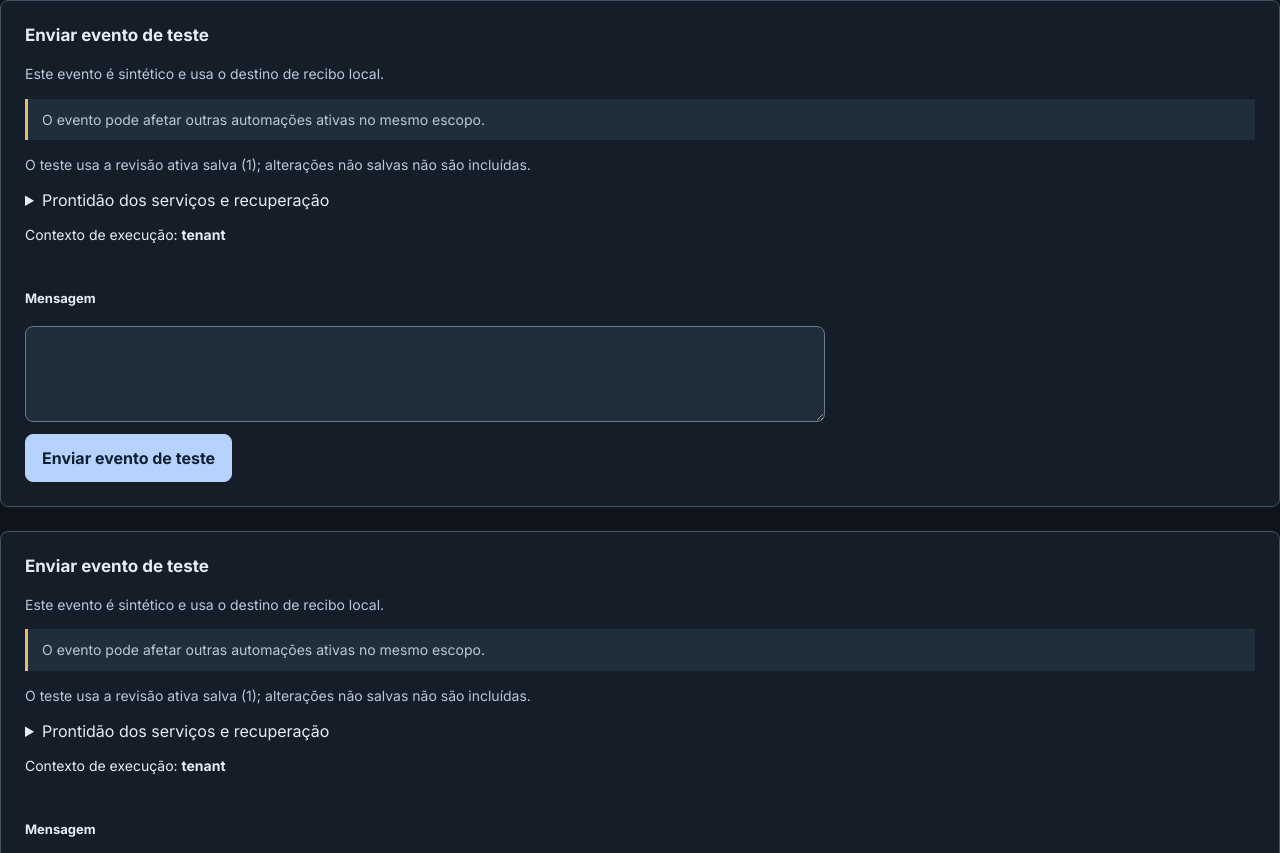
Test: shows actionable definitive 400 to both panels
In the 1st text box labelled "Mensagem": (425, 374) 25,326 -> 825,422, type "original"
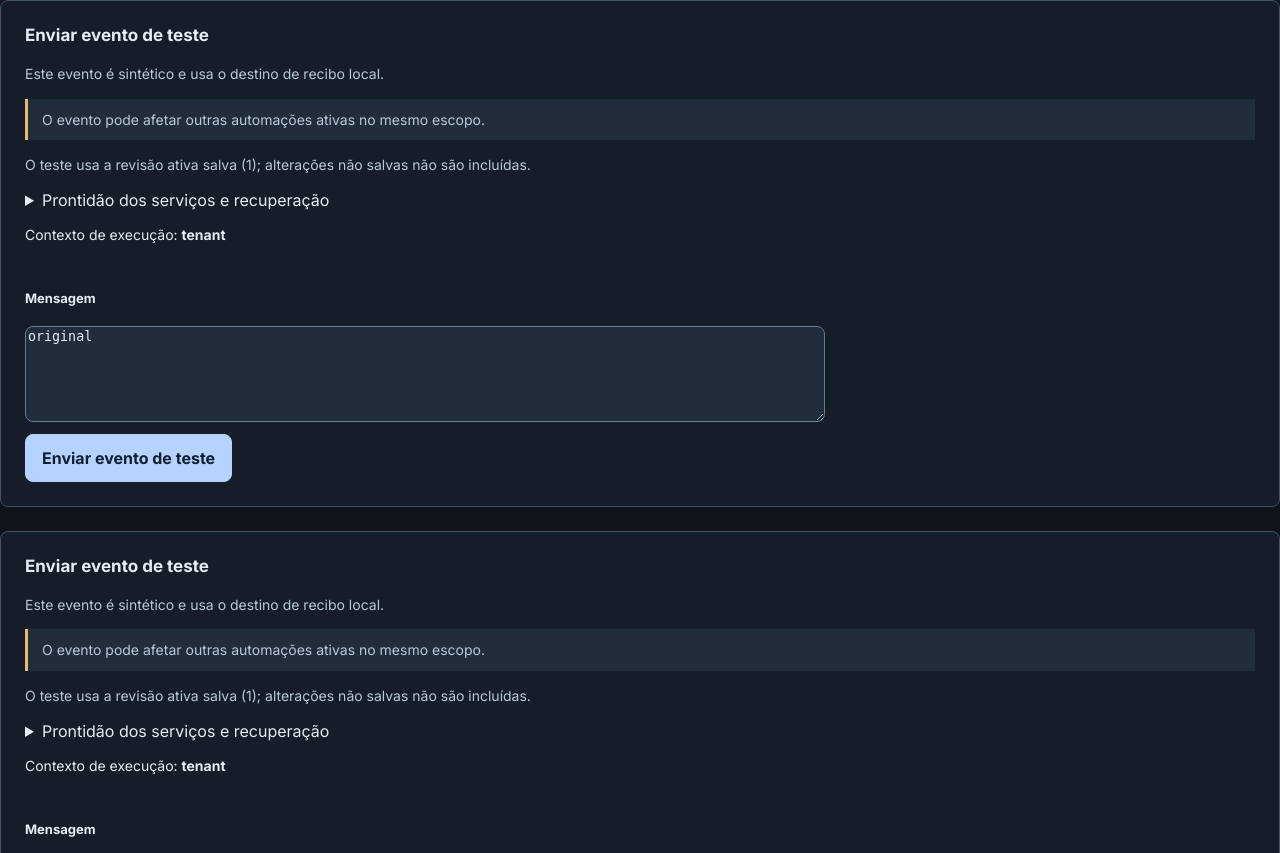
Click the button "Enviar evento de teste": (129, 458) 25,434 -> 232,482
(page scrolled)
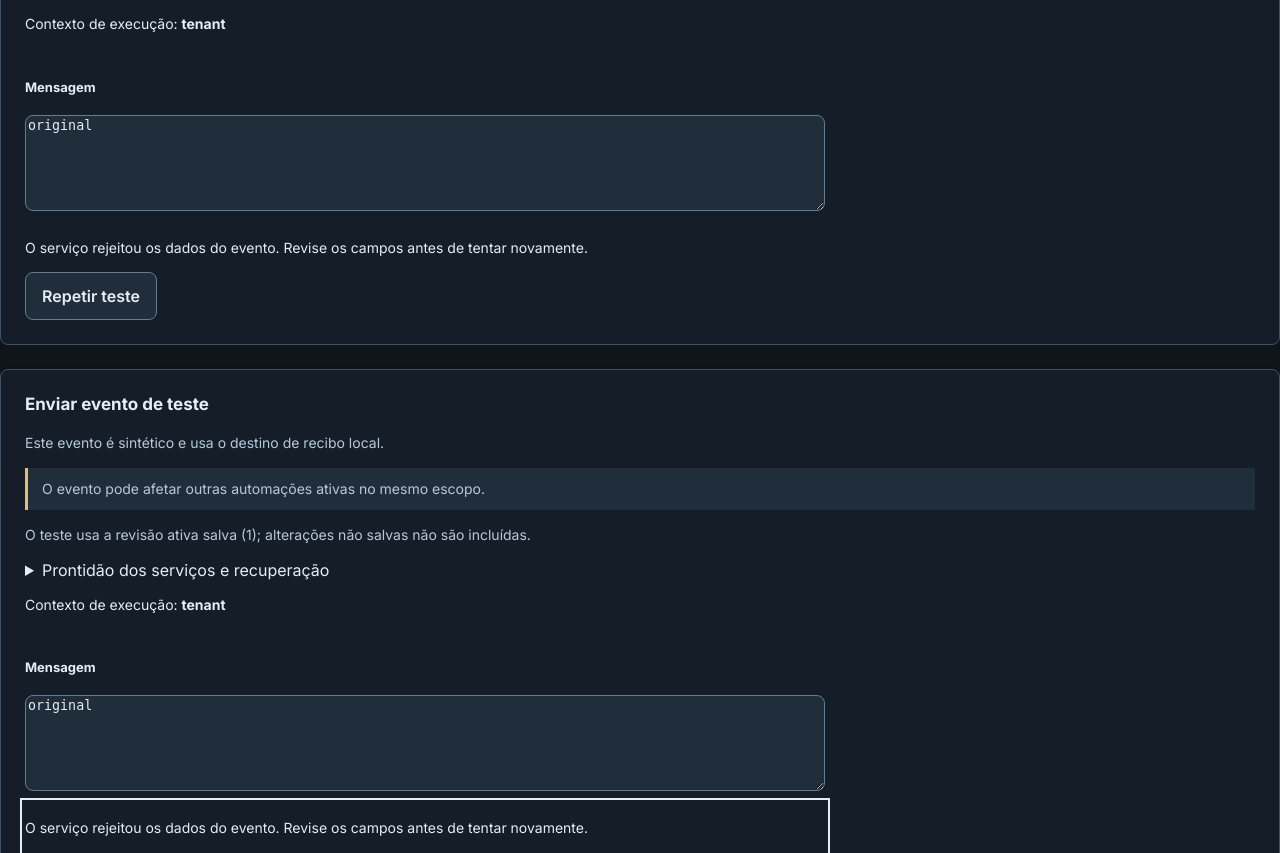
Expected: the 2nd text box labelled "Mensagem" is enabled, 25,695 -> 825,791
Expected: the 2nd text "serviço rejeitou" is shown, 25,819 -> 588,836
